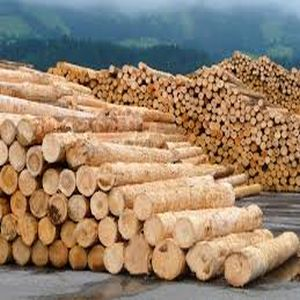log: (184, 240, 218, 280), (151, 239, 185, 278), (123, 236, 154, 276), (222, 250, 253, 288), (140, 214, 167, 246), (172, 215, 196, 250), (75, 162, 98, 197), (65, 137, 89, 169), (96, 215, 119, 248), (17, 214, 39, 247), (102, 244, 126, 274), (36, 217, 60, 247), (11, 236, 33, 268), (47, 194, 69, 226), (75, 219, 98, 248), (117, 209, 139, 239), (89, 189, 109, 222), (66, 194, 88, 224), (59, 220, 80, 251), (39, 168, 62, 196), (66, 243, 88, 272), (47, 239, 69, 268), (28, 189, 50, 218), (96, 162, 117, 192), (87, 243, 107, 274), (132, 193, 153, 222), (16, 118, 36, 148), (107, 186, 126, 217), (59, 167, 78, 198), (30, 238, 50, 267), (1, 165, 19, 197), (41, 134, 60, 163), (8, 191, 28, 218), (25, 147, 43, 177), (8, 142, 26, 172), (19, 169, 39, 194), (1, 120, 18, 146), (2, 215, 19, 240), (293, 121, 299, 130)
